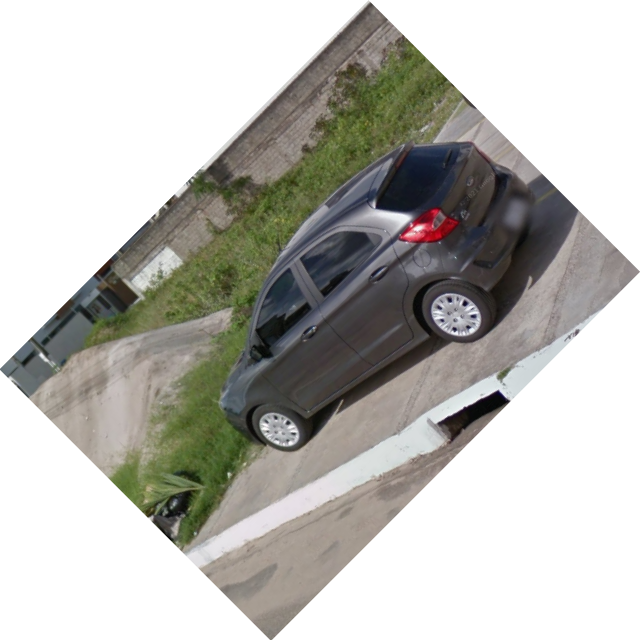car: (215, 139, 539, 456)
